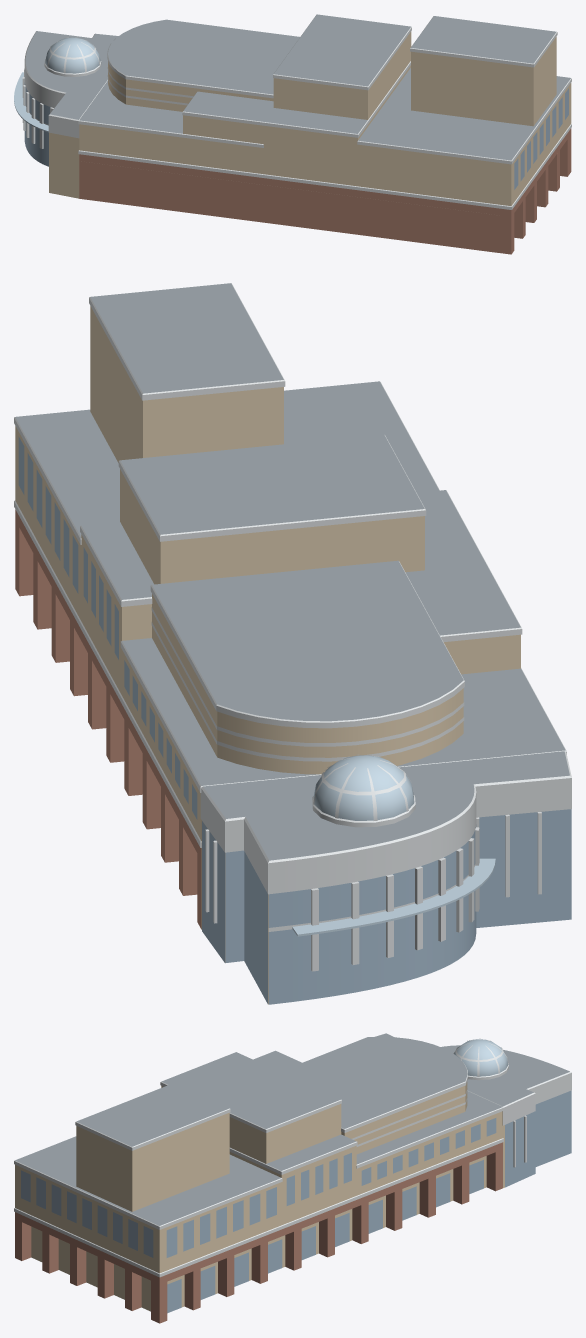
The picture shows the model from 3 angles, top to bottom: view 1: azimuth 30°, elevation 25°; view 2: azimuth 150°, elevation 25°; view 3: azimuth 270°, elevation 25°; orthographic projection. The views are drawn at different scales.
Parts seen in each view (by area): view 1: belk-theater; view 2: belk-theater; view 3: belk-theater.
Boxes of the visible parts, bbox=[...] form: belk-theater: bbox=[14, 14, 571, 254]; belk-theater: bbox=[14, 283, 571, 1004]; belk-theater: bbox=[14, 1033, 571, 1323].
Bounding box in the file's own units: 96.83 × 35 × 109.
